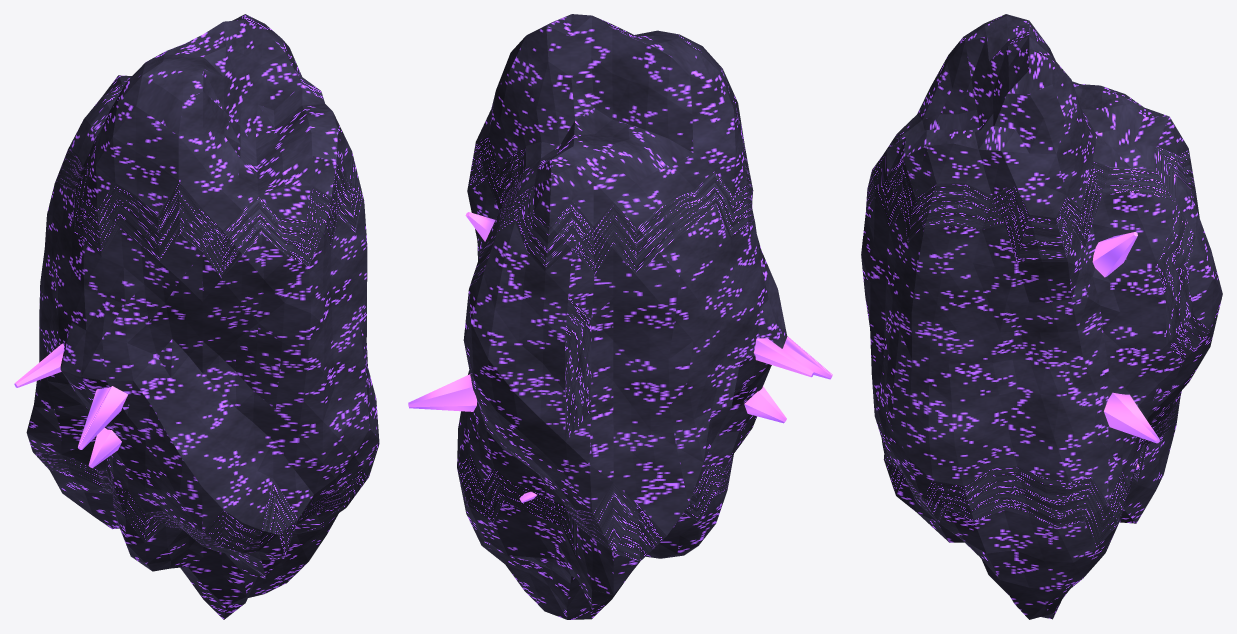
File: ast_fulgurite_spire.glb
3 renders of one model, left to right at view 1: azimuth 30°, elevation 25°; view 2: azimuth 150°, elevation 25°; view 3: azimuth 270°, elevation 25°, orthographic. The views are drawn at different scales.
Visible parts, largest first — view 1: ast_fulgurite_spire; view 2: ast_fulgurite_spire; view 3: ast_fulgurite_spire.
Boxes of the visible parts, bbox=[...] form: ast_fulgurite_spire: bbox=[14, 14, 379, 619]; ast_fulgurite_spire: bbox=[408, 14, 832, 619]; ast_fulgurite_spire: bbox=[861, 14, 1222, 619].
Size of the model in its own units: 4.11 by 7.11 by 4.06.
Materials: 1 (1 with a texture image).
